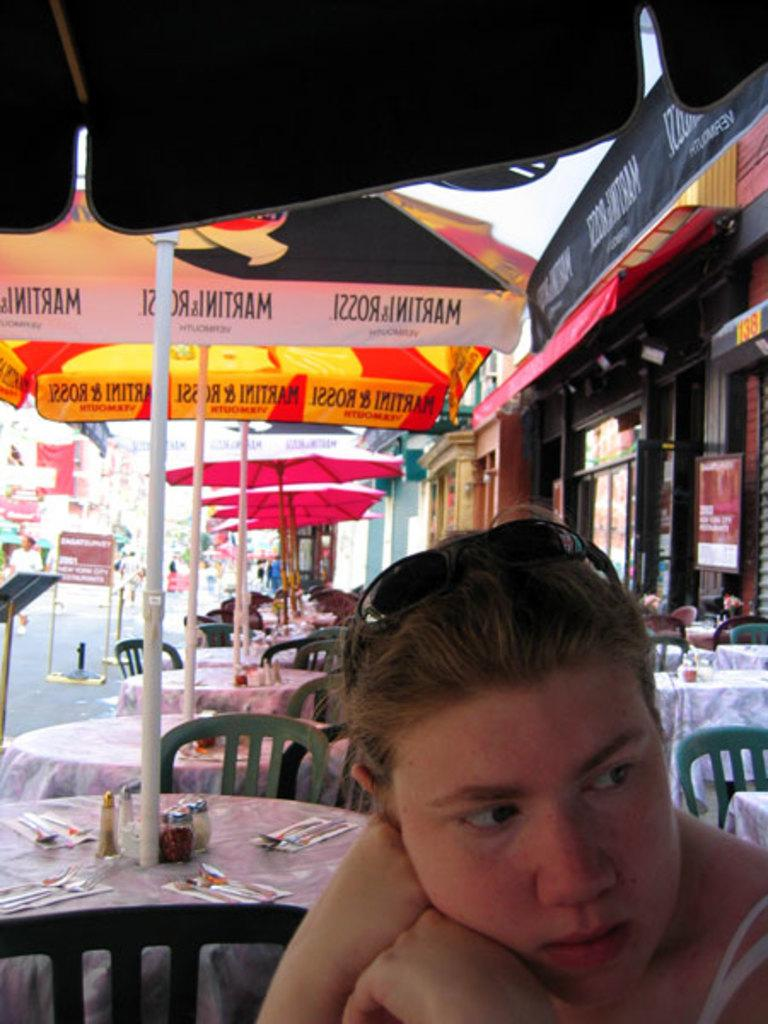Sem Máscara: (386, 656, 684, 996)
